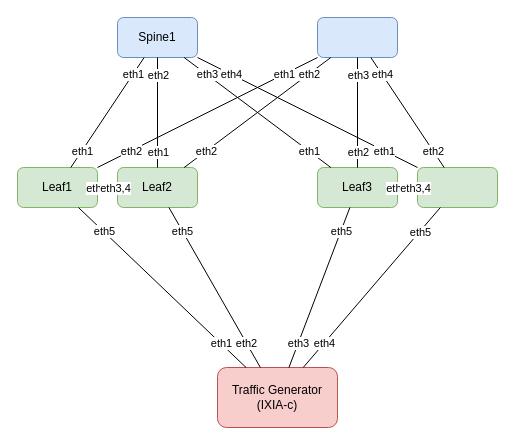
This 515x445 diagram has some shape labels left out. The shapes that lost their labels are listed below. From the top down, each one's centre as x and y in pixels, then its label:
At point (357, 37): "Spine2".
At point (457, 187): "Leaf4".
